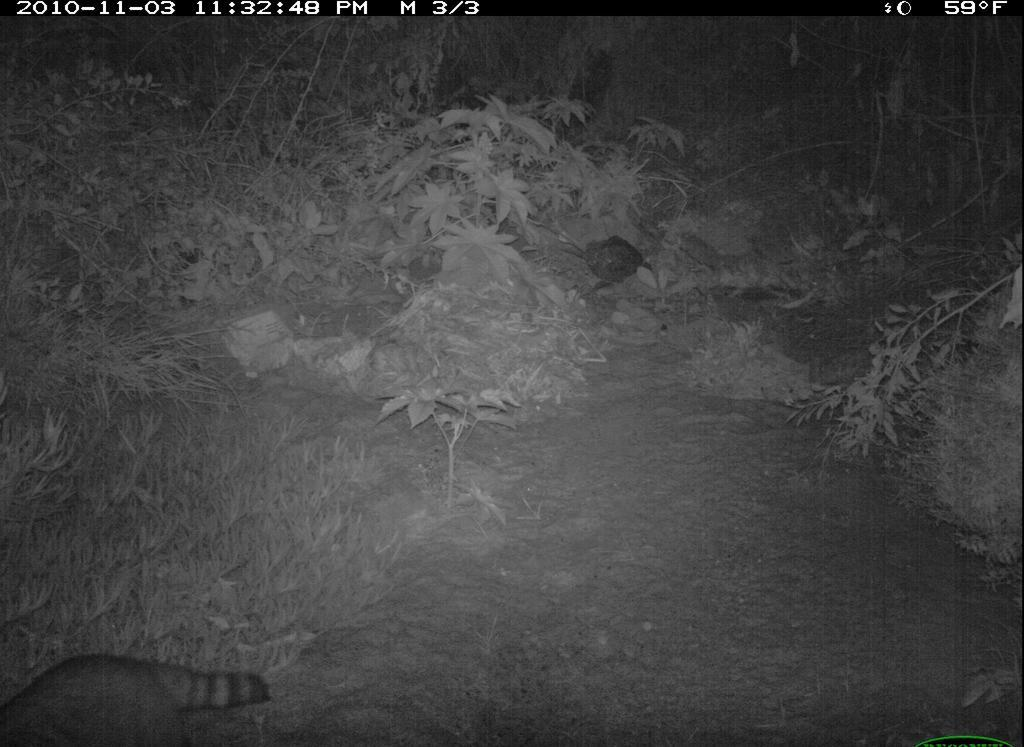raccoon: (4, 646, 285, 747)
